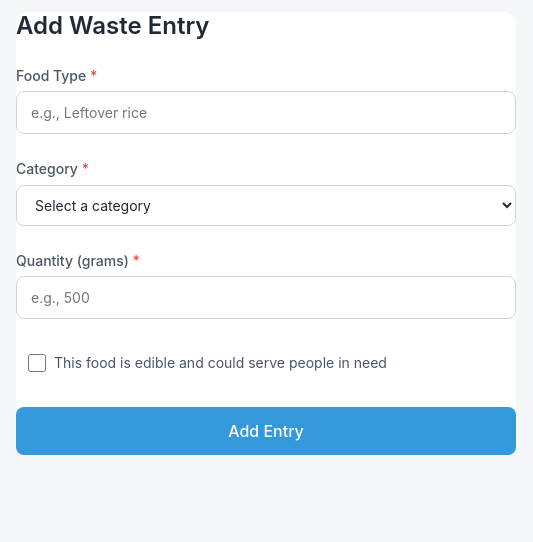
Test: WasteEntryForm › clears error when user starts typing in a field
# Trigger validation errors
Click the button with aria-label "add waste entry" at (266,431), box [16,407,516,455]
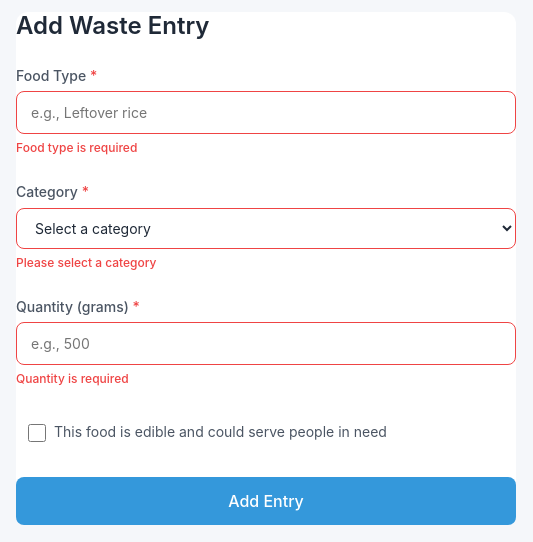
Result: the text "Food type is required" is shown at [16,140,137,155]
# Start typing in food type field
Type "A" into the field labelled "Food Type *" at (266,113), box [16,91,516,134]
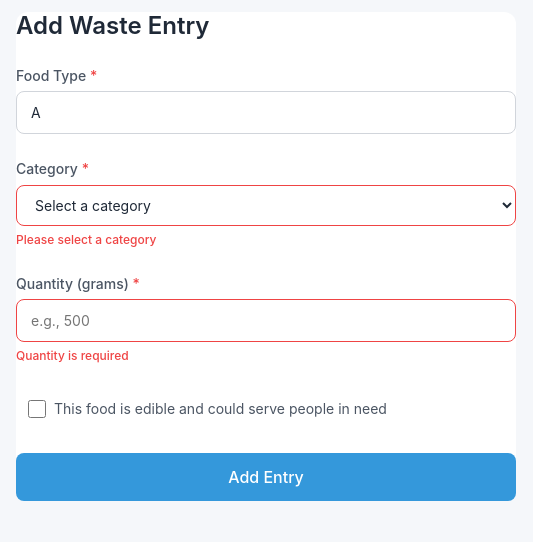
Result: the text "Food type is required" is gone
